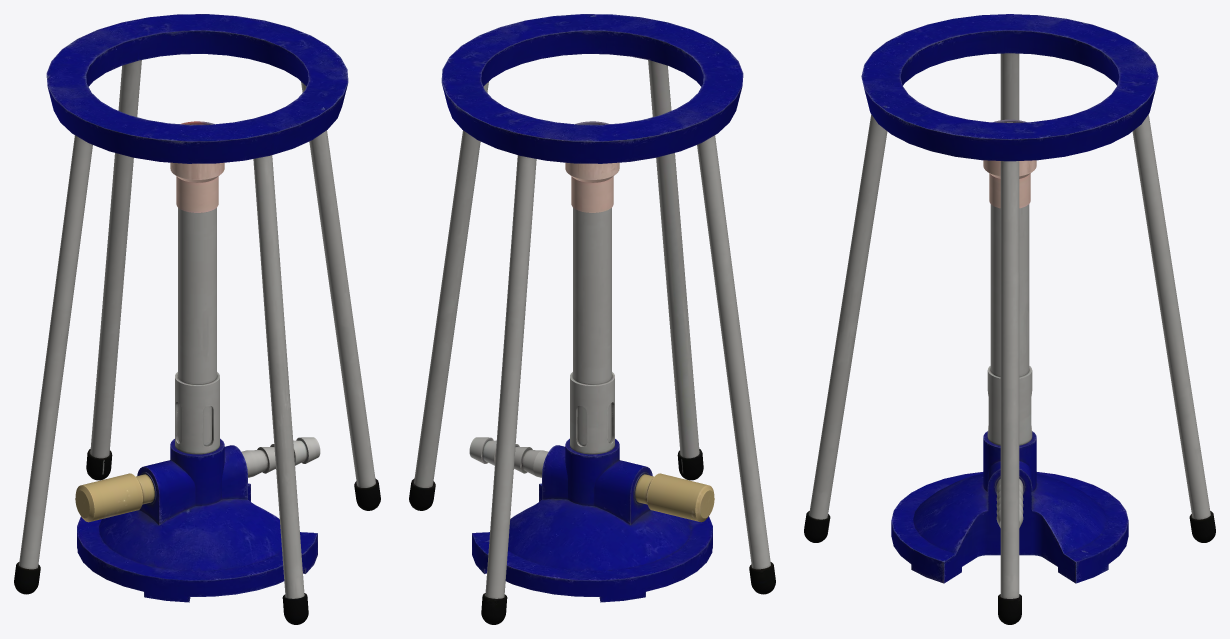
The model's file is bunsen-burner.glb.
3 views of the same model, side by side, from view 1: azimuth 30°, elevation 25°; view 2: azimuth 150°, elevation 25°; view 3: azimuth 270°, elevation 25° (orthographic).
Parts seen in each view (by area): view 1: bunsen_burner; view 2: bunsen_burner; view 3: bunsen_burner.
Boxes of the visible parts, x1,y1,x2,y2 form: bunsen_burner: [14, 14, 380, 624]; bunsen_burner: [409, 14, 775, 624]; bunsen_burner: [804, 14, 1215, 624].
Bounding box in the file's own units: 0.1389 × 0.1731 × 0.1389.
Materials: 1 (1 with a texture image).
